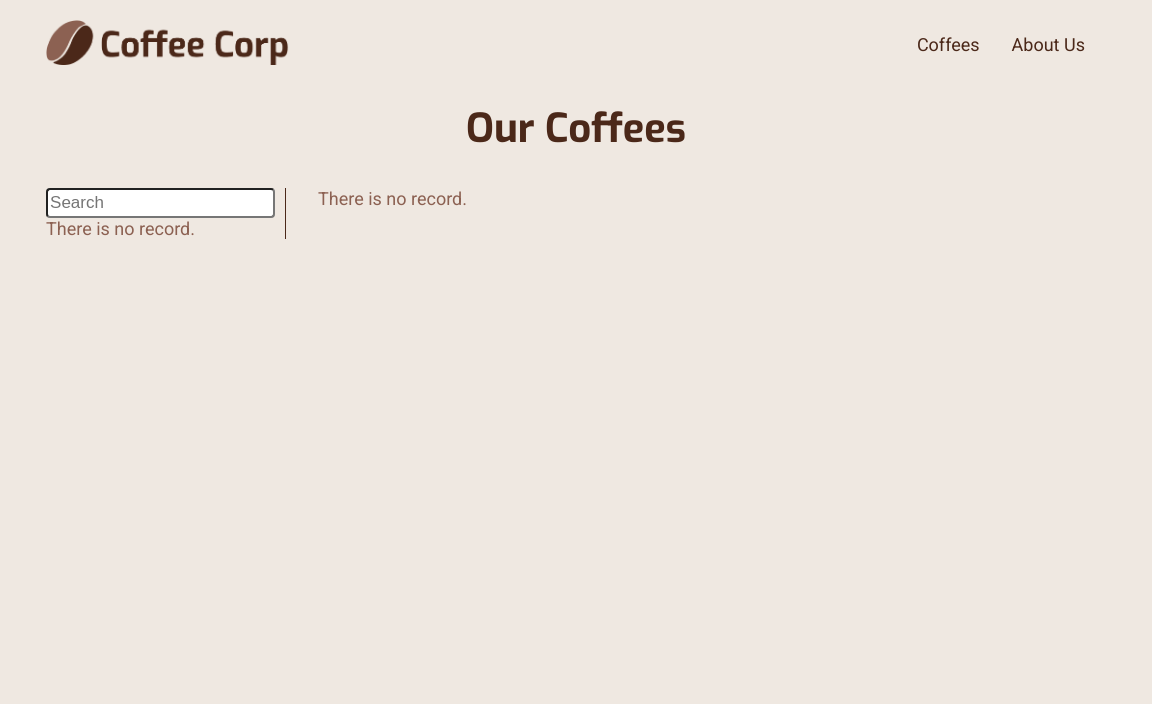
Test: Frontend General Test › should change about page when click navbar and about page as expected
Click the link "About Us" at (1049,45), box [1012, 34, 1085, 55]
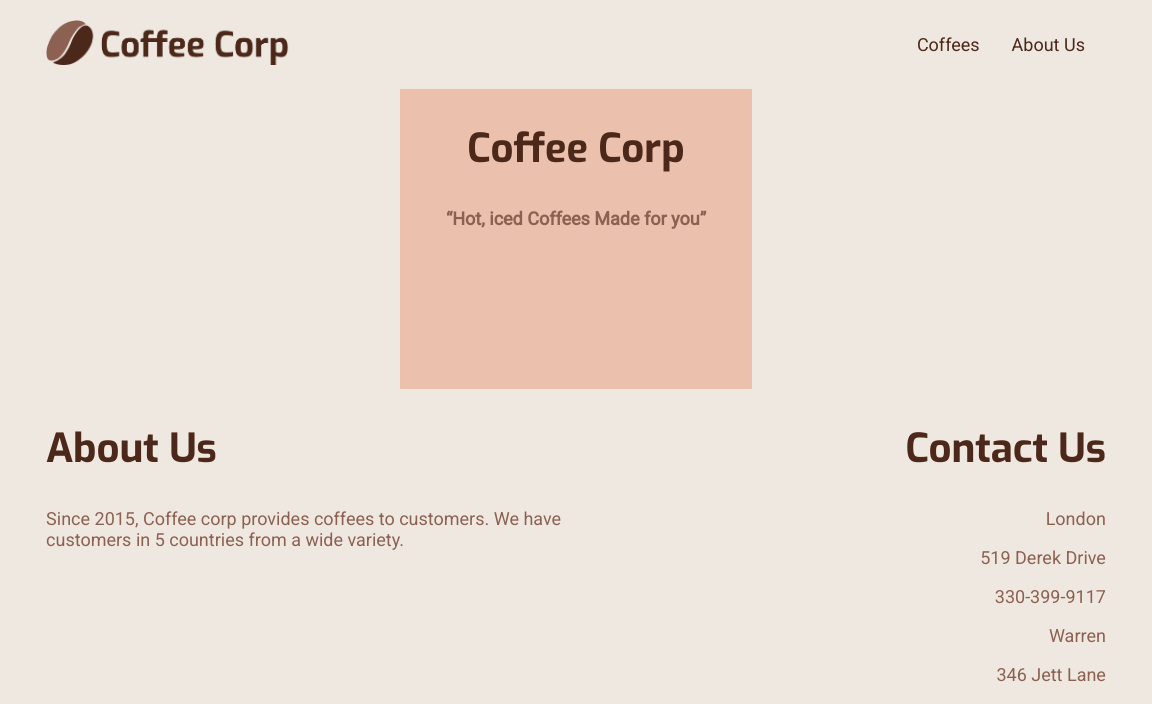
Now the heading "Coffee Corp" is shown, box [467, 122, 685, 175]
Now the text "Hot, iced Coffees Made for you" is shown, box [446, 208, 706, 229]
Now the heading "About Us" is shown, box [46, 422, 217, 475]
